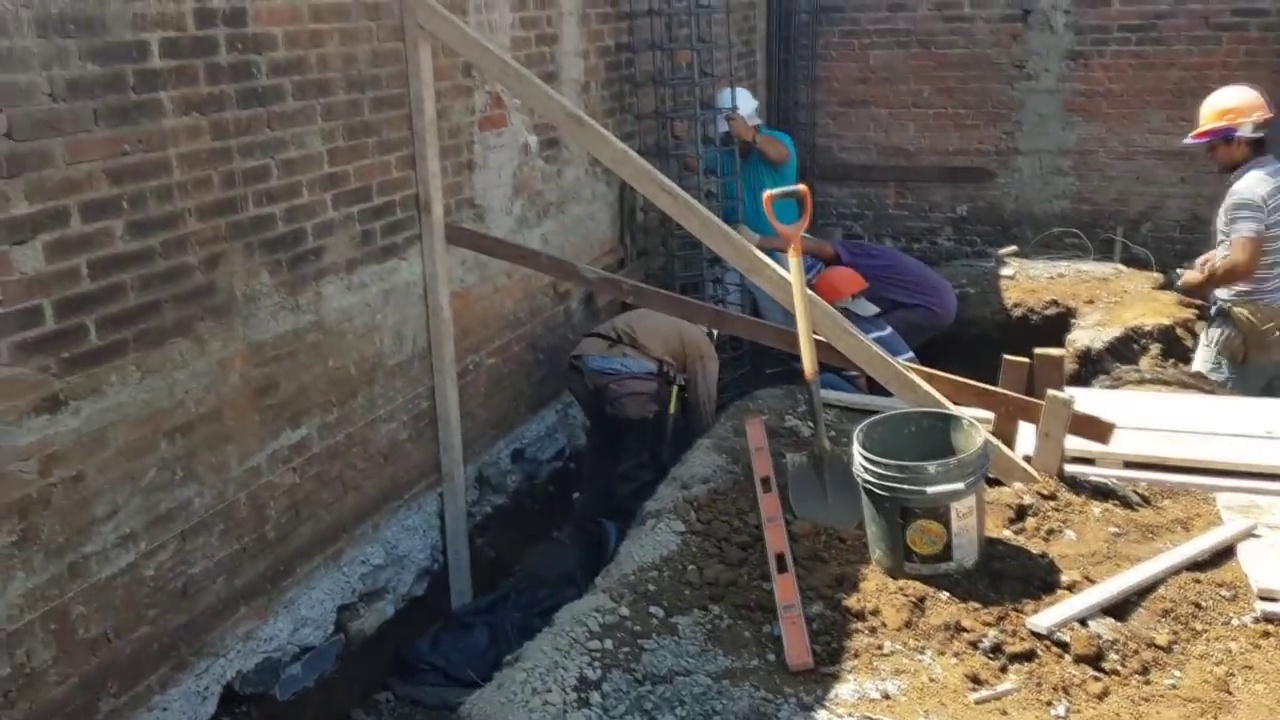helmet: (1181, 82, 1266, 146), (812, 264, 871, 305), (717, 92, 761, 126)
helmet-on: (1181, 79, 1280, 177), (812, 265, 881, 320), (717, 87, 764, 159)
person: (676, 85, 811, 319), (1181, 77, 1279, 397), (560, 311, 724, 494), (732, 223, 962, 343), (811, 264, 925, 398)
